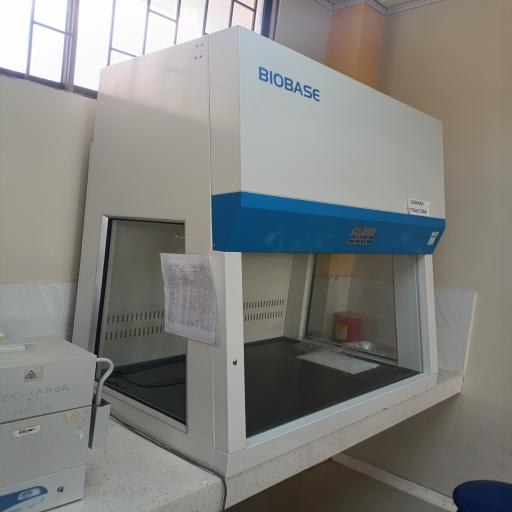Camara_Extractora_Biobase: (62, 38, 476, 489)
